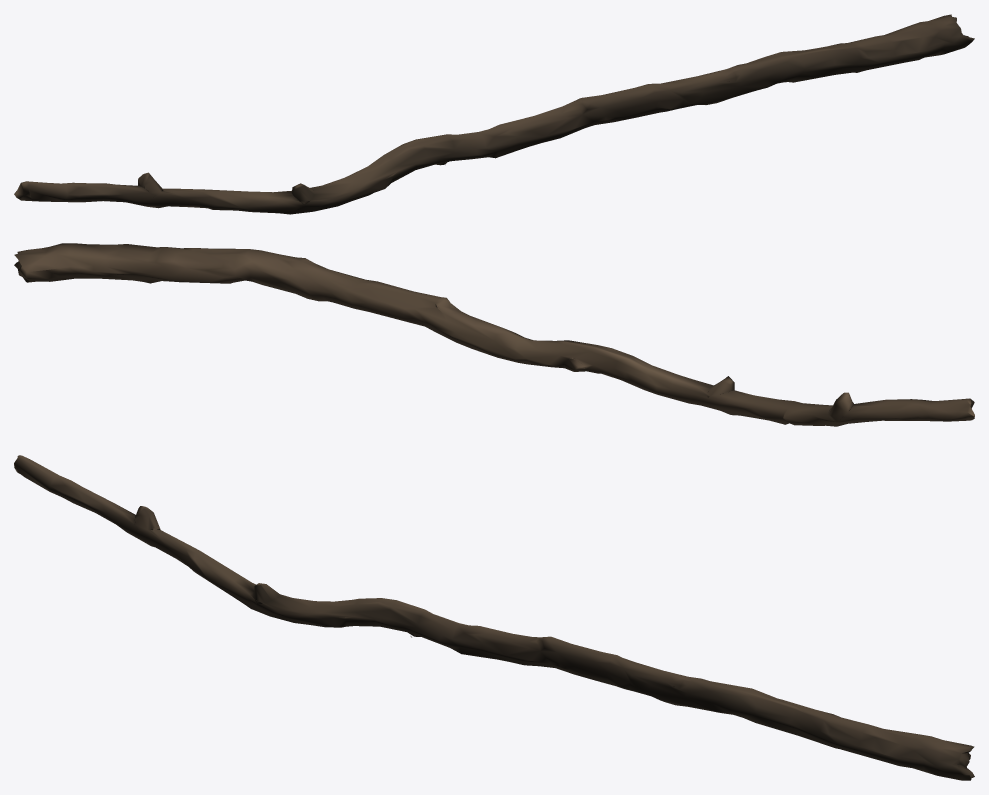
File: trees-dead-trees-wood-dead-branch_v4.glb
3 renders of one model, top to bottom at view 1: azimuth 30°, elevation 25°; view 2: azimuth 150°, elevation 25°; view 3: azimuth 330°, elevation 25°, orthographic.
Parts seen in each view (by area): view 1: Dead Branch_v4; view 2: Dead Branch_v4; view 3: Dead Branch_v4.
Part boxes in pixels (x1=…): Dead Branch_v4: x1=14, y1=14, x2=974, y2=214; Dead Branch_v4: x1=14, y1=243, x2=974, y2=426; Dead Branch_v4: x1=14, y1=455, x2=974, y2=780.
Bounding box in the file's own units: 1.5 × 0.1494 × 0.122.
